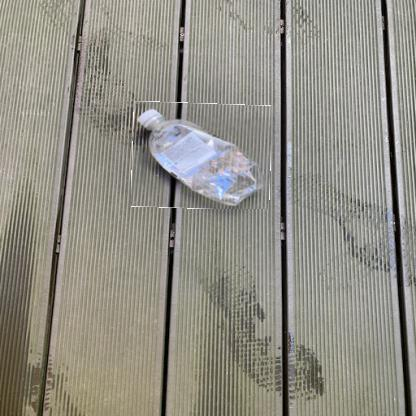plastic-bottles: (133, 103, 273, 210)
